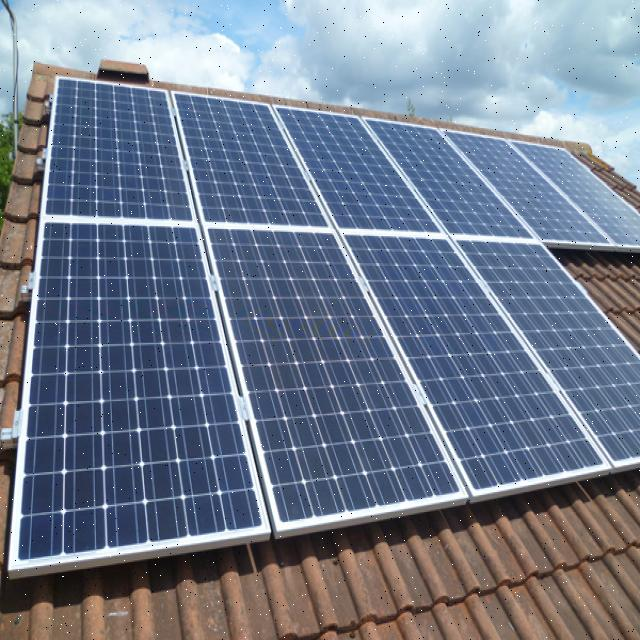clean: (10, 88, 640, 559)
